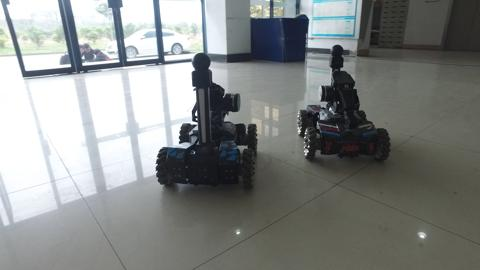car: (105, 20, 198, 61)
chariot: (156, 49, 266, 195), (288, 41, 400, 166)
